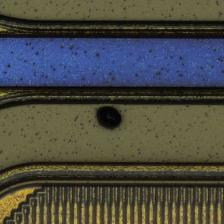PARTICLE: (94, 102, 126, 134)
